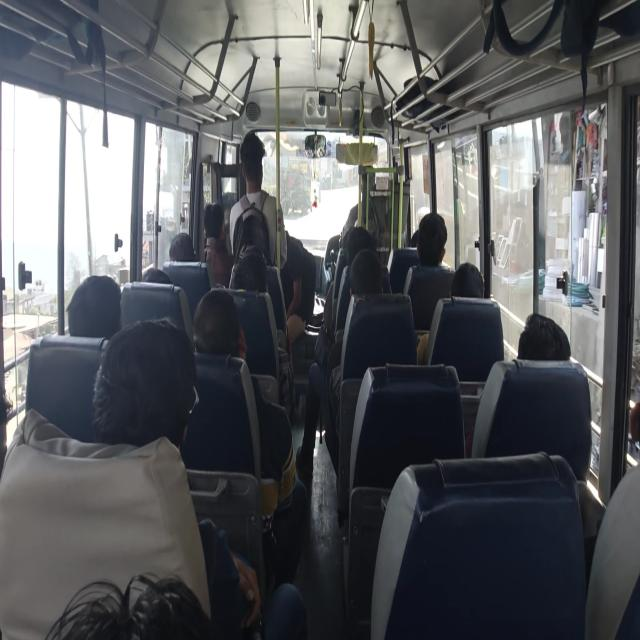person: (232, 135, 278, 215)
